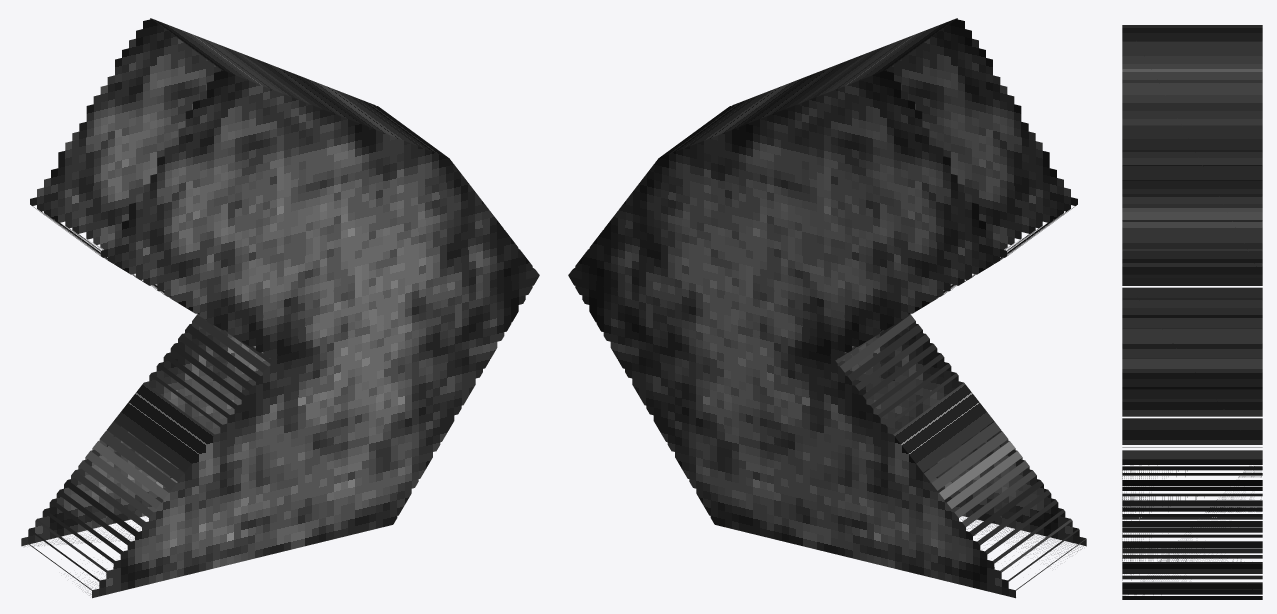
Rendered from frag2.obj.
The picture shows the model from 3 angles, left to right: view 1: azimuth 30°, elevation 25°; view 2: azimuth 150°, elevation 25°; view 3: azimuth 270°, elevation 25°; orthographic projection.
Size of the model in its own units: 0.7231 by 0.7645 by 0.1953.
1 material, 1 textured.
